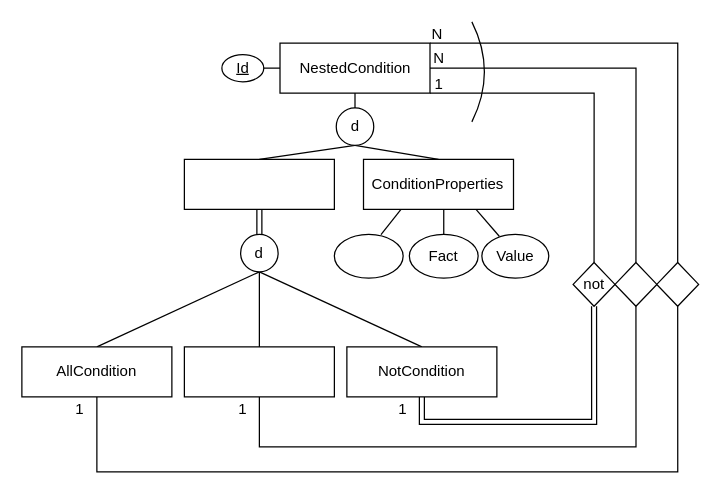
Some shapes in this 721 by 495 pixel diagram are drawn without their labels. Here are the shapes that lost their labels. From the top down, the box of each, then its label:
(183, 158, 334, 209): TopLevelCondition
(333, 233, 403, 278): Operator
(614, 261, 657, 306): any
(656, 261, 699, 306): all
(183, 346, 334, 397): AnyCondition
